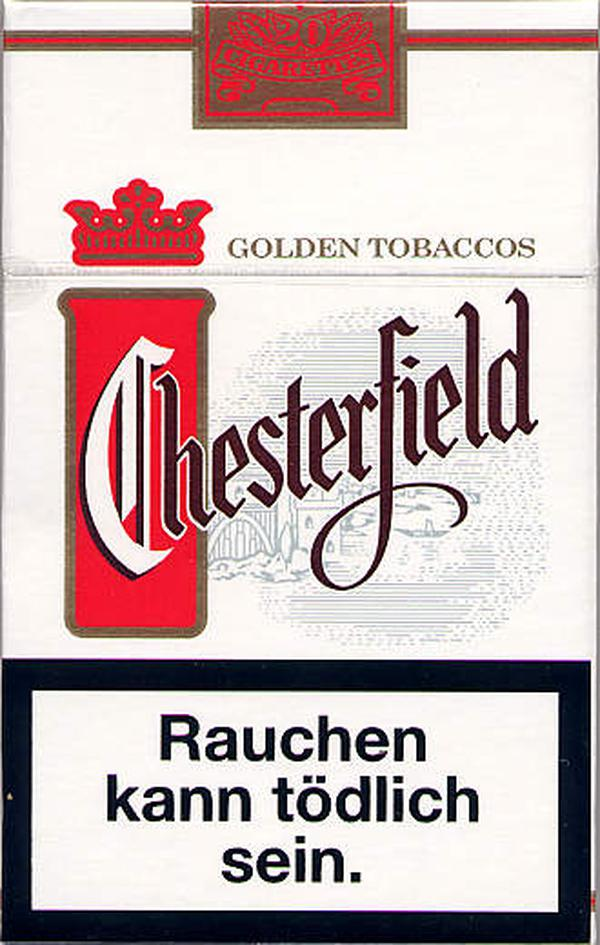chesterfield_red: (1, 8, 593, 939)
